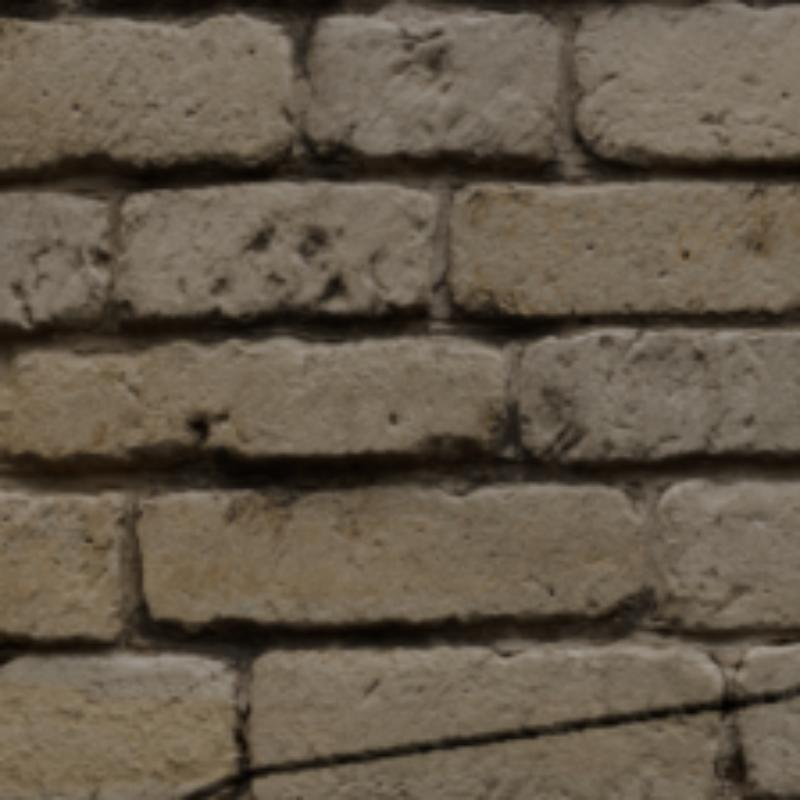pothole: (179, 686, 796, 796)
